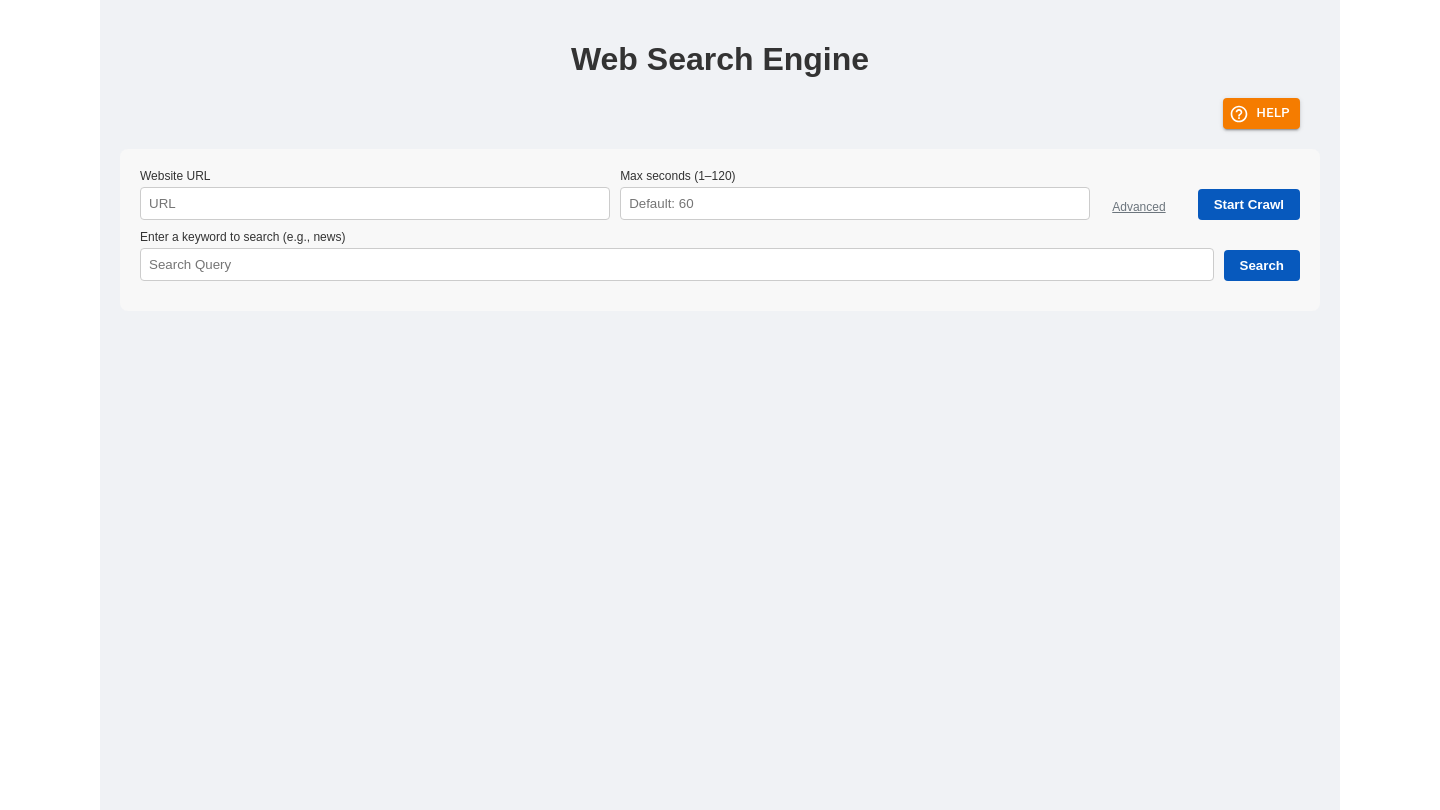
it: shows a search outage without retrying it as a cold start
The width and height of the screenshot is (1440, 810).
Type "Andorra" into the field labelled "Enter a keyword to search (e.g., news)" at (677,265), box [140,248,1214,281]
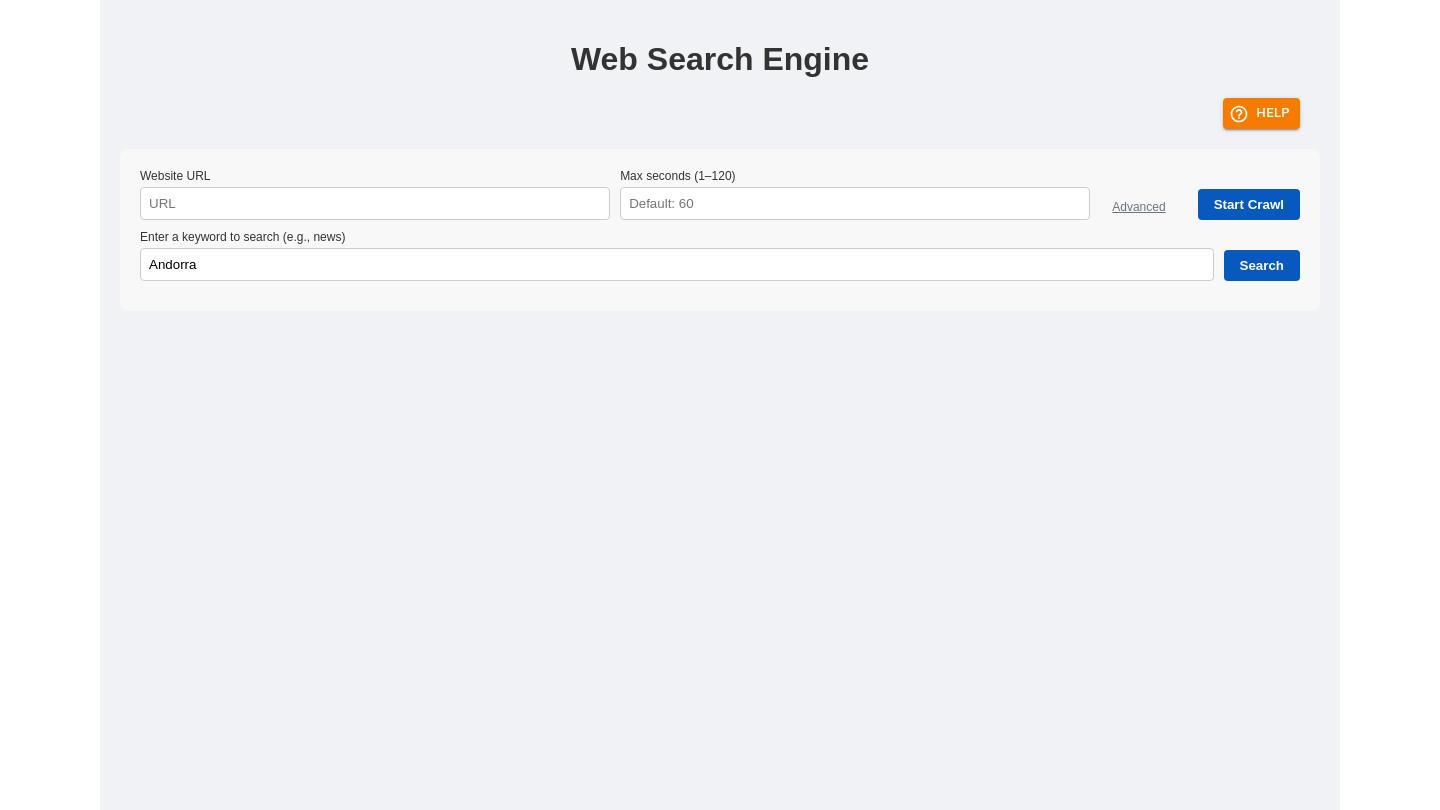
Click the button "Search" at (1262,266), box [1224,250,1300,281]
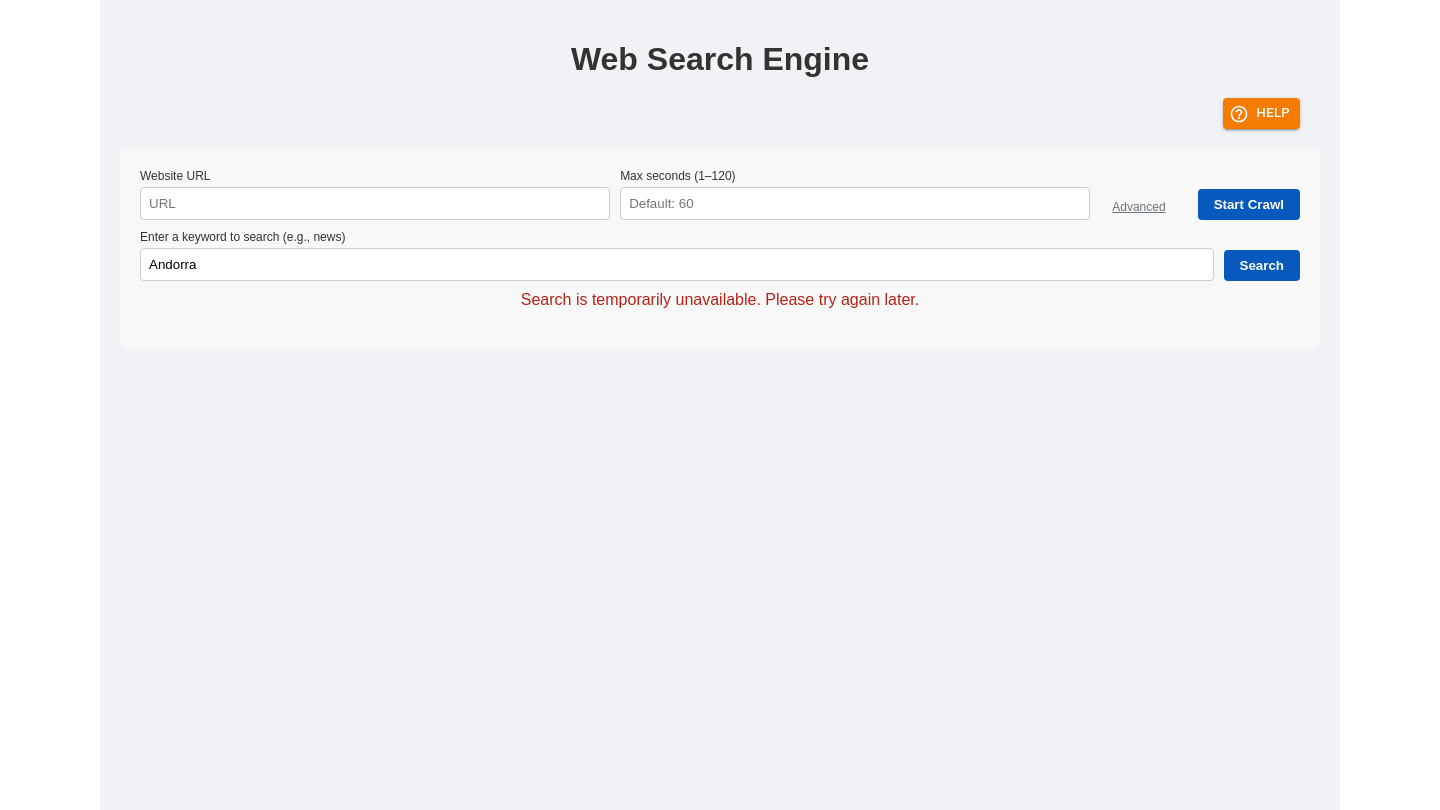
Now the message shows "Search is temporarily unavailable.", box [521,291,919,308]
